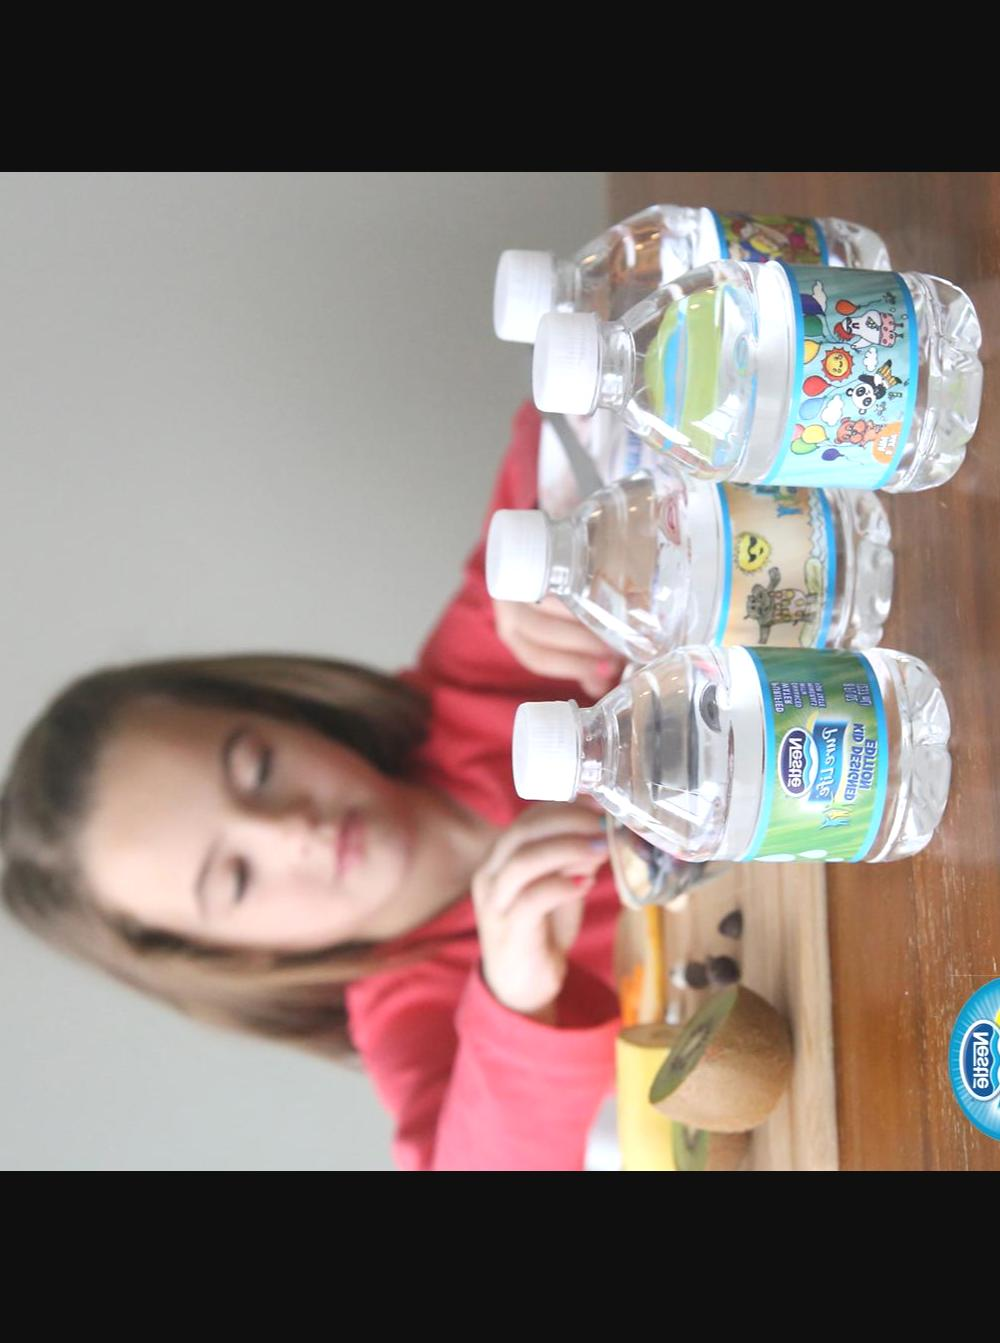bottle: (520, 244, 1000, 521), (493, 623, 972, 884), (466, 440, 910, 694), (468, 196, 910, 401)
